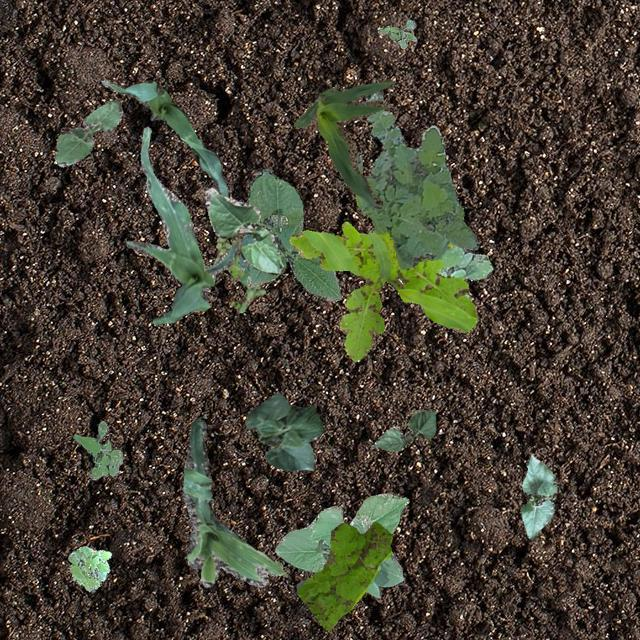crop: (125, 125, 238, 324), (182, 416, 284, 586), (100, 78, 228, 196), (274, 492, 408, 598), (237, 168, 341, 300), (292, 78, 392, 208), (204, 186, 282, 274), (244, 392, 322, 471), (54, 100, 122, 166), (520, 453, 556, 538), (372, 408, 436, 451)
weed: (288, 220, 476, 360), (354, 90, 478, 268), (296, 520, 390, 630), (214, 234, 264, 312), (436, 244, 492, 300), (72, 419, 121, 478), (68, 546, 110, 592), (376, 18, 416, 48)
